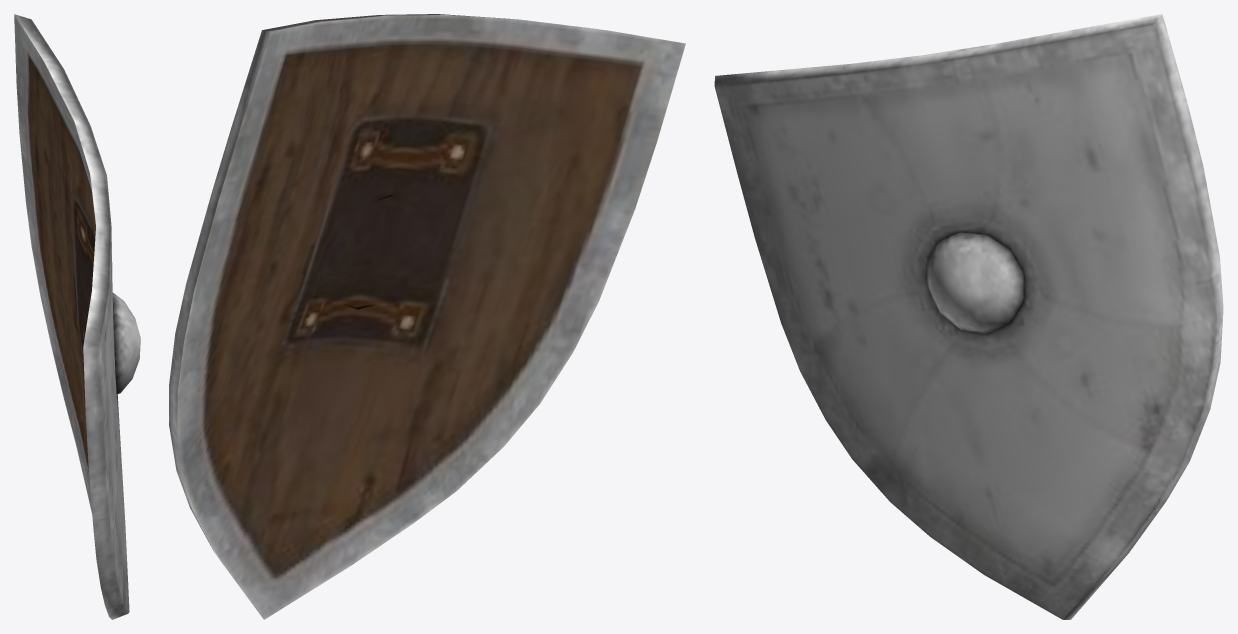
File: shield-bronzeshields.glb
3 renders of one model, left to right at view 1: azimuth 30°, elevation 25°; view 2: azimuth 150°, elevation 25°; view 3: azimuth 270°, elevation 25°, orthographic. The views are drawn at different scales.
Size of the model in its own units: 0.3419 by 0.8223 by 0.6533.
Materials: 1 (1 with a texture image).
